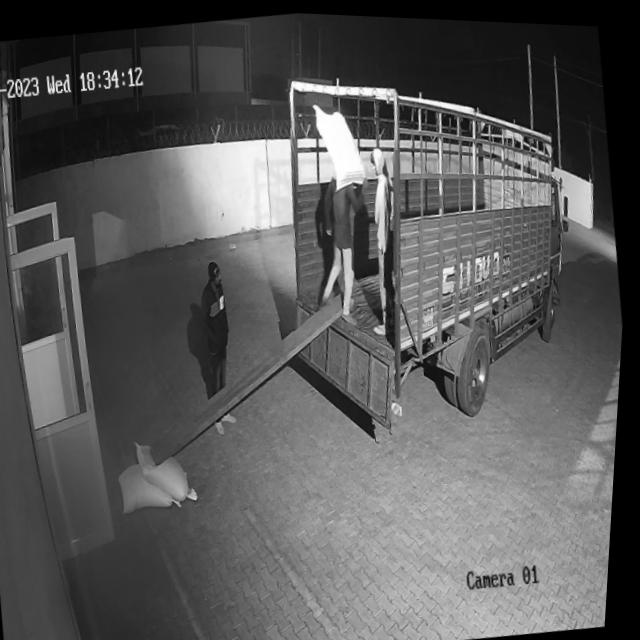sack: (310, 96, 373, 191), (139, 433, 207, 504), (120, 455, 189, 514)
